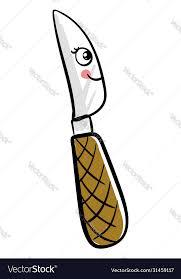Knife: (51, 8, 128, 248)
